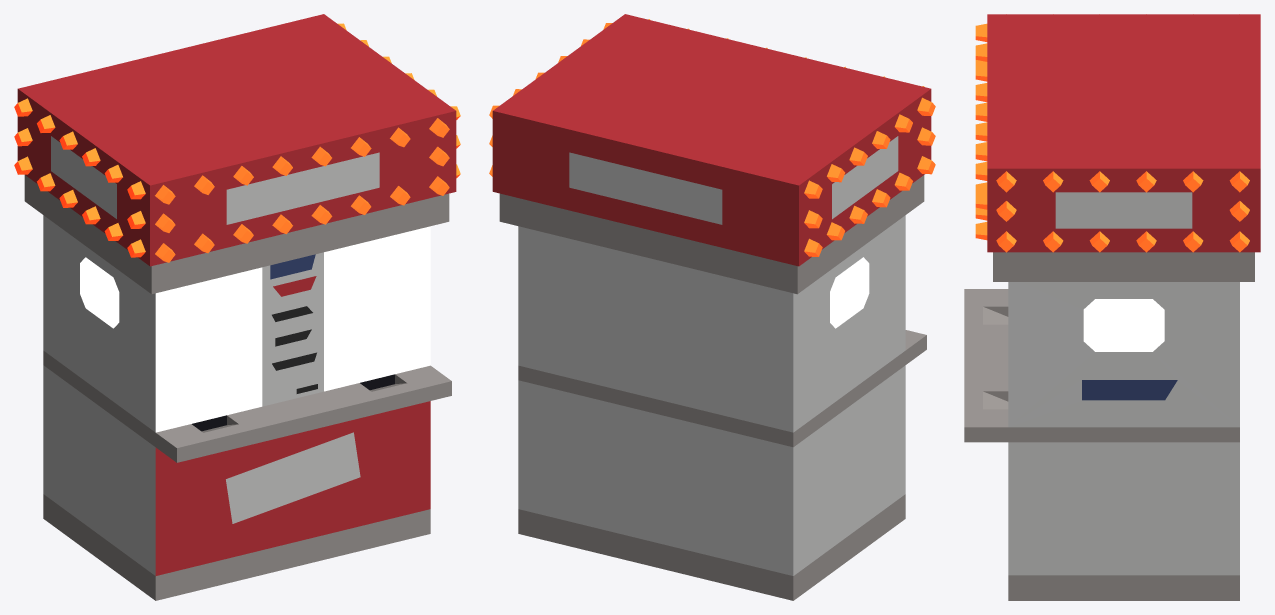
File: amusement-park-ticket-ride-booth.glb
The picture shows the model from 3 angles, left to right: view 1: azimuth 30°, elevation 25°; view 2: azimuth 150°, elevation 25°; view 3: azimuth 270°, elevation 25°; orthographic projection. The views are drawn at different scales.
Visible parts, largest first — view 1: ticket-ride-booth; view 2: ticket-ride-booth; view 3: ticket-ride-booth.
Boxes of the visible parts, box(x1,y1,x2,y2) form: ticket-ride-booth: box(14, 14, 460, 600); ticket-ride-booth: box(489, 14, 935, 600); ticket-ride-booth: box(964, 14, 1260, 600).
Bounding box in the file's own units: 2.24 × 2.8 × 1.71.
